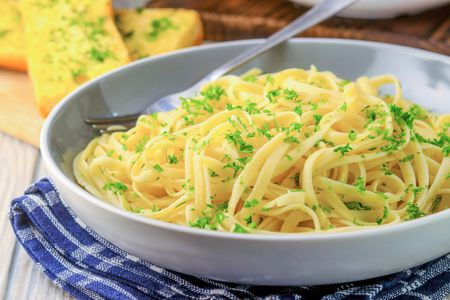plain spaghetti: (99, 73, 444, 222)
